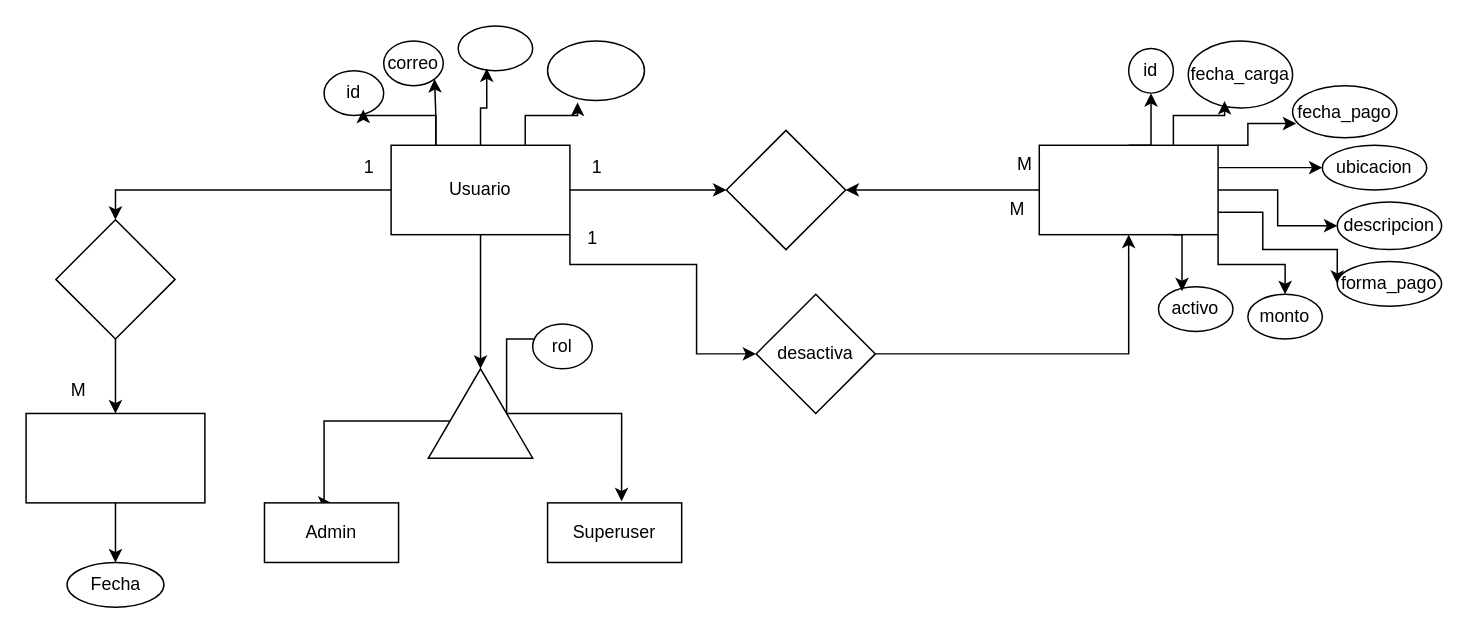
The diagram is 1468 pixels wide and 633 high, and some of its shapes have lost their labels. Each missing label, with the box of its shape:
contrasena: (546, 39, 644, 101)
Is_a: (427, 367, 533, 458)
Login: (25, 412, 205, 503)
nombre: (457, 25, 533, 71)
Pagos: (1038, 144, 1218, 235)
realiza: (54, 218, 175, 339)
registra: (725, 129, 846, 250)
